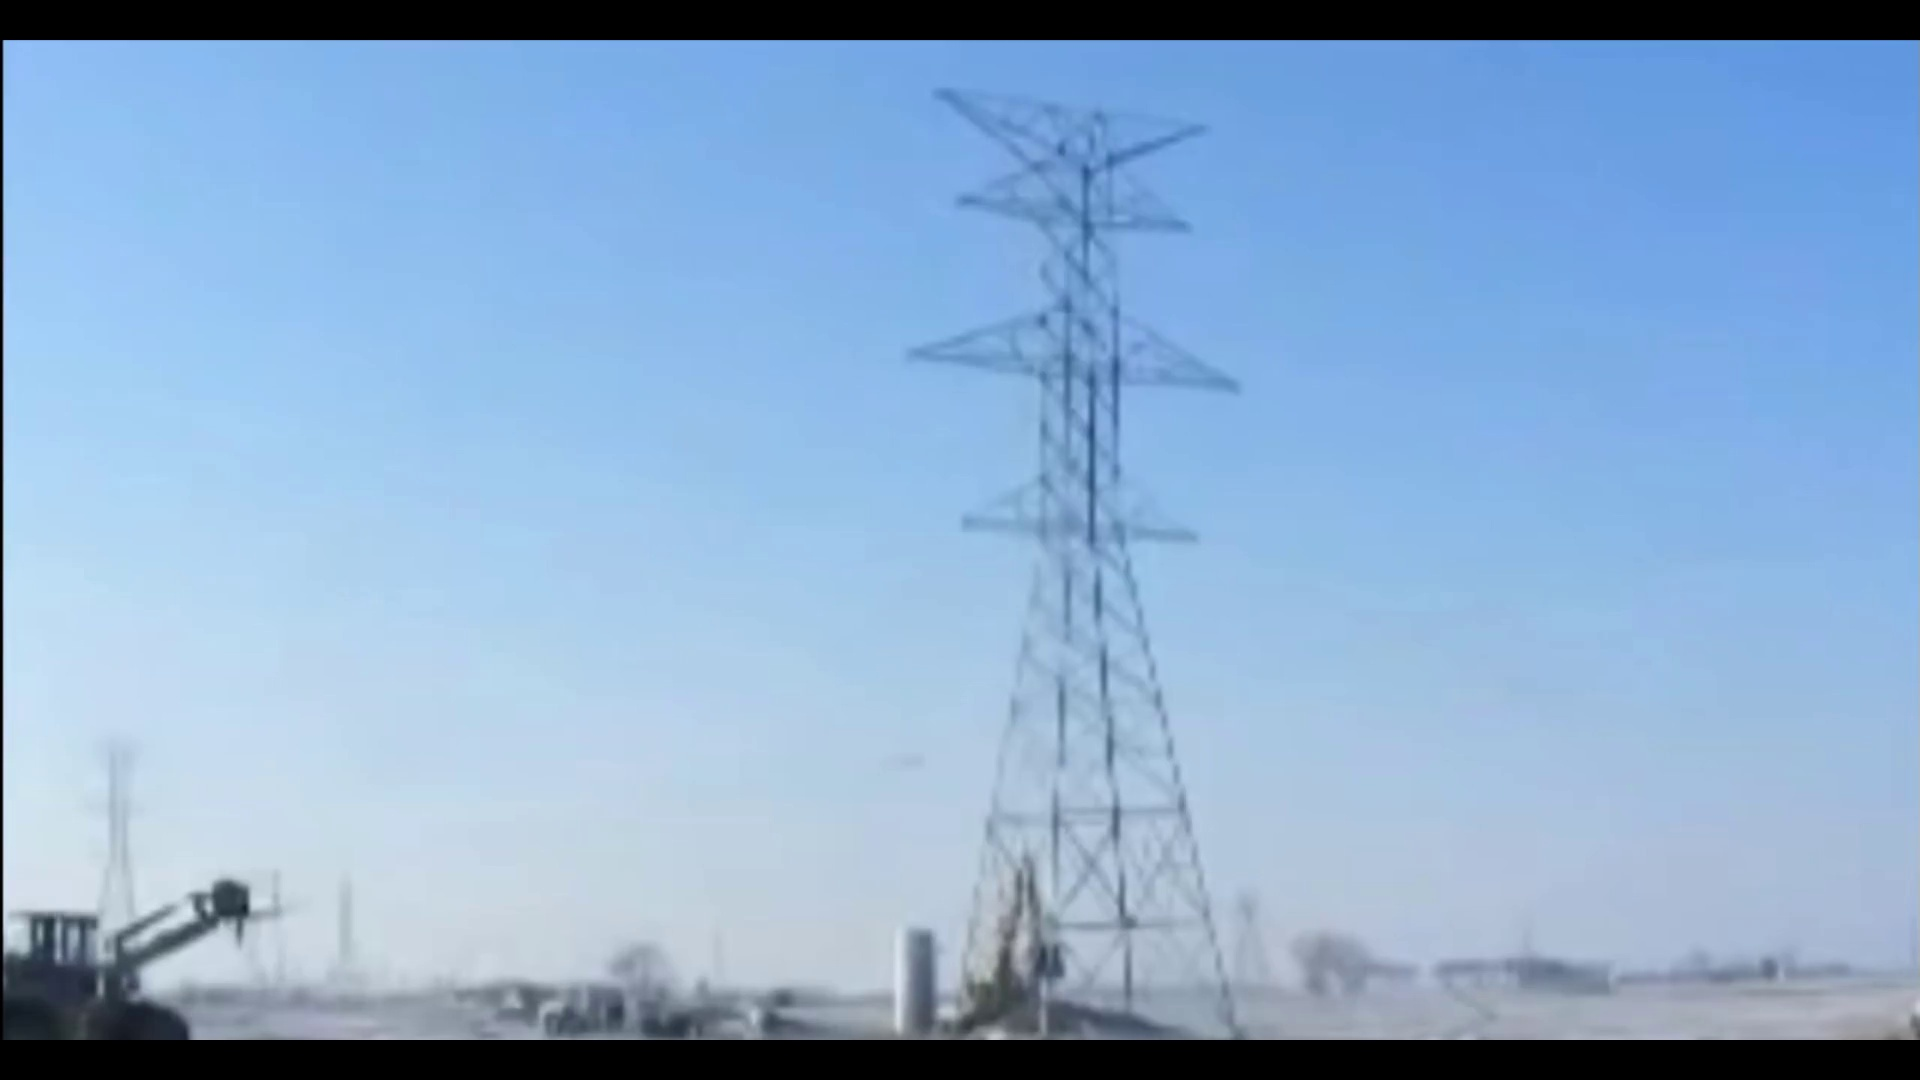tower_up: (928, 66, 1271, 1051)
